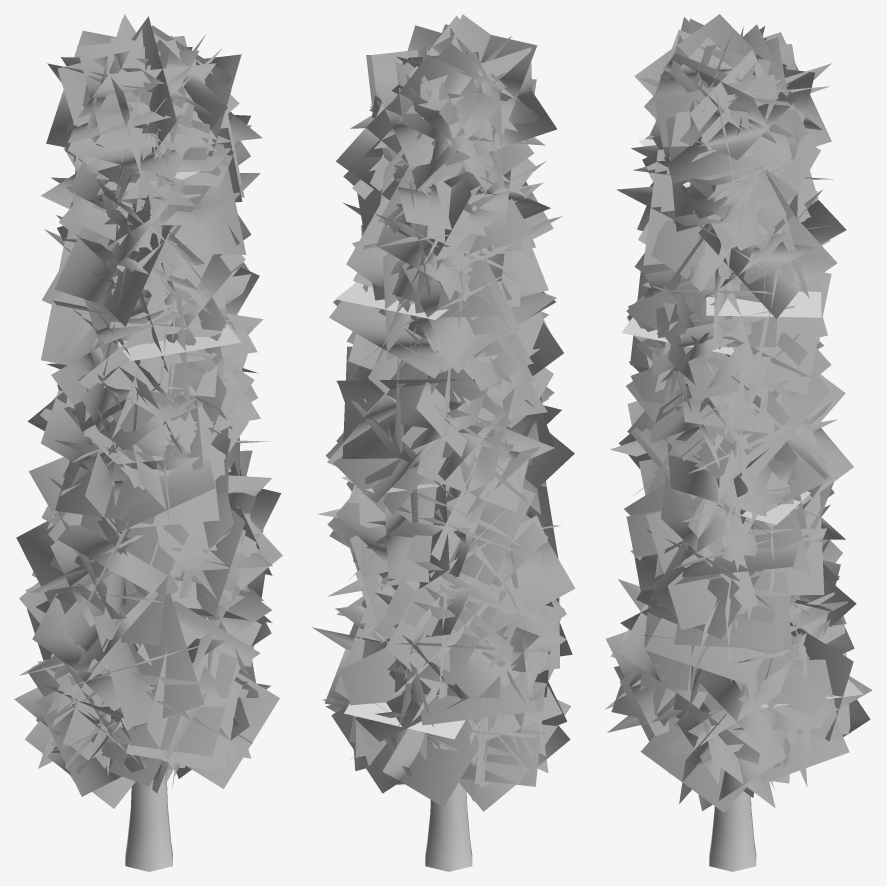
File: STColumnar3.glb
The picture shows the model from 3 angles, left to right: view 1: azimuth 30°, elevation 25°; view 2: azimuth 150°, elevation 25°; view 3: azimuth 270°, elevation 25°; orthographic projection.
Parts seen in each view (by area): view 1: VertTree3Leaves; view 2: VertTree3Leaves; view 3: VertTree3Leaves.
Boxes of the visible parts, box(x1,y1,x2,y2) form: VertTree3Leaves: box(14, 14, 282, 871); VertTree3Leaves: box(312, 14, 575, 871); VertTree3Leaves: box(605, 14, 872, 871).
Size of the model in its own units: 4.25 by 14.51 by 4.19.
2 materials, 1 textured.
